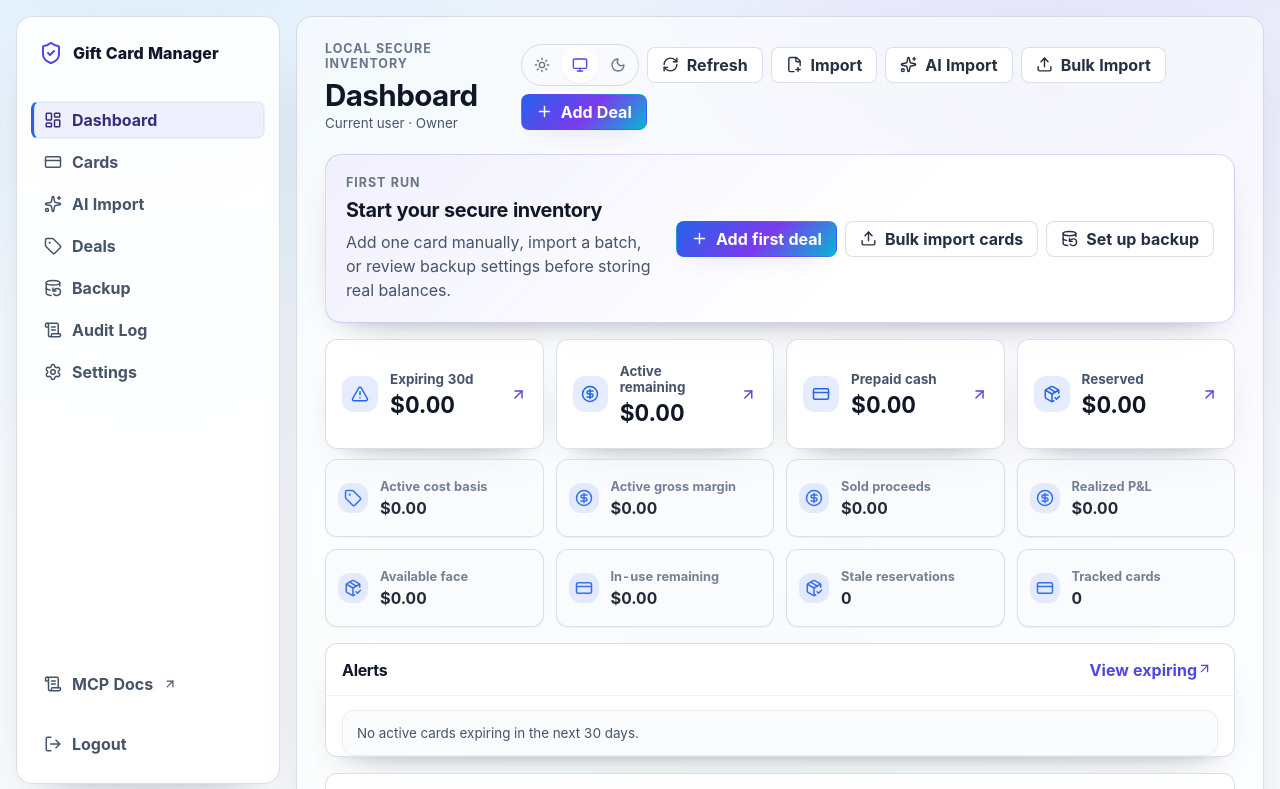
Test case: App › loads the audit log from primary navigation
The image size is (1280, 789).
Expected: the heading "Dashboard" is shown, [325,79,503,112]
Click the button "Audit Log": (148,330) [31,311,265,349]
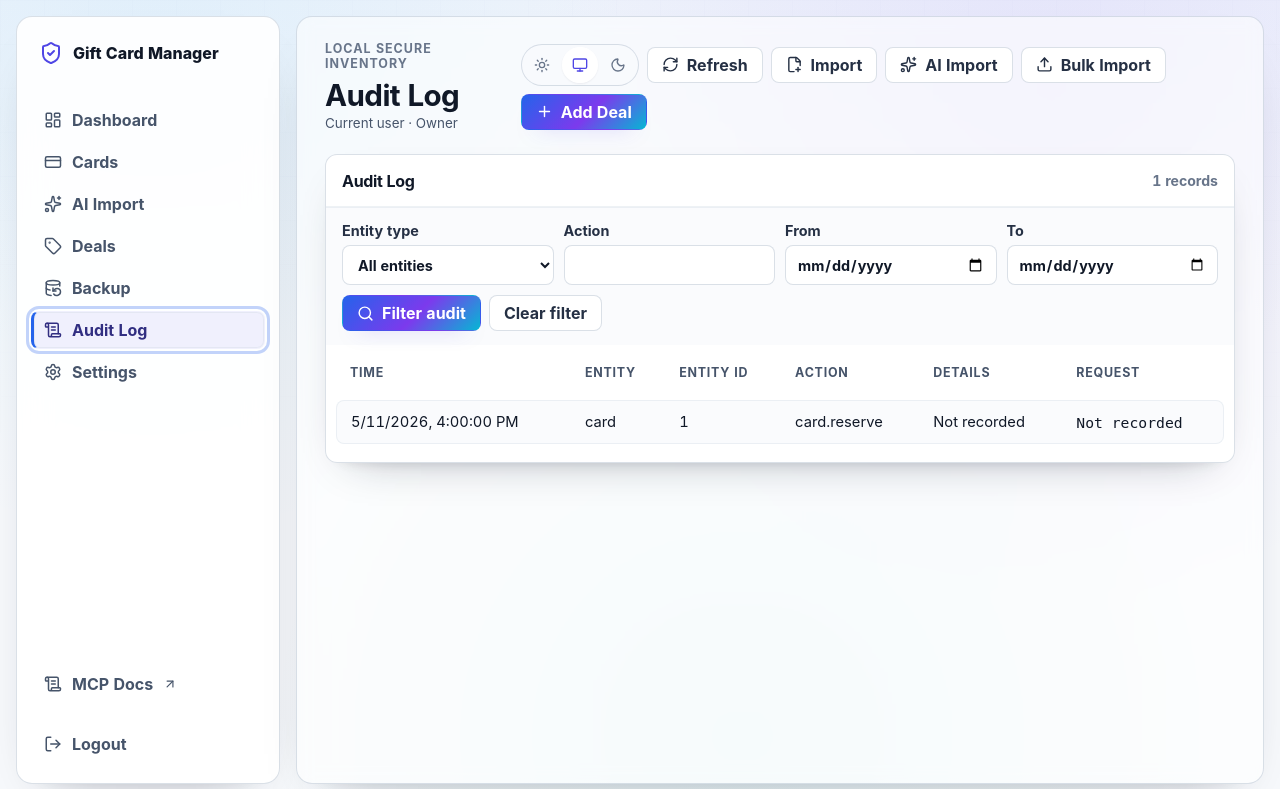
Expected: the heading "Audit Log" below "Local secure inventory" is shown, [325,77,459,113]
Expected: the text "card.reserve" is shown, [781,400,919,444]
Expected: the row "card 1 card.reserve" is shown, [336,400,1224,444]
